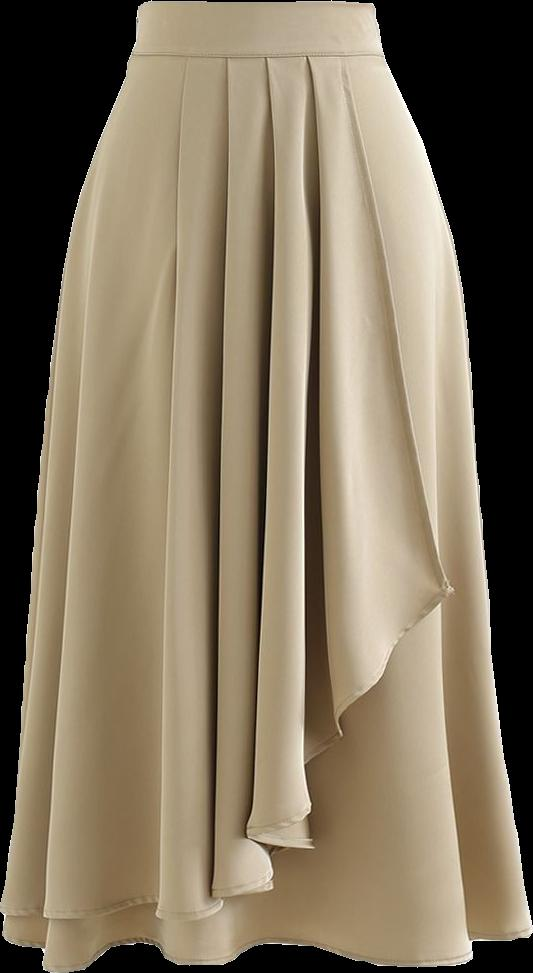Hemline: (0, 588, 454, 926), (0, 926, 532, 972)
Waistline: (124, 42, 388, 66), (132, 0, 378, 17)
